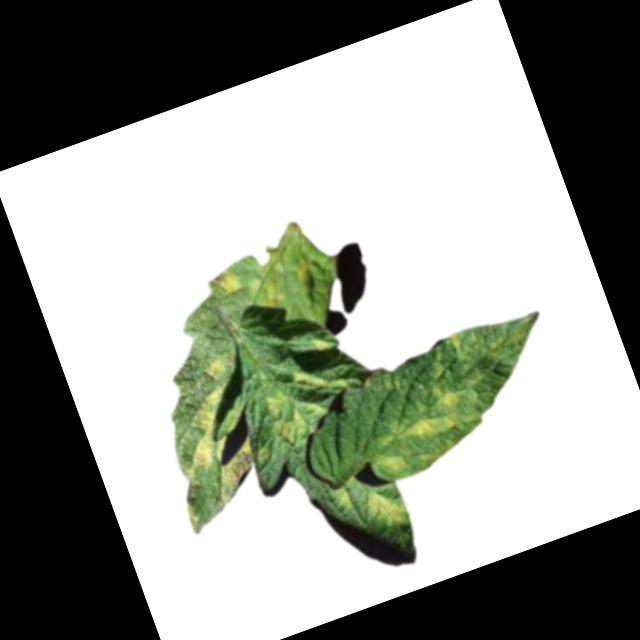Leaf_Mold: (252, 355, 366, 450), (387, 378, 476, 452), (204, 439, 267, 506), (360, 483, 413, 534), (185, 382, 236, 432), (182, 428, 224, 469), (371, 443, 412, 483), (205, 265, 247, 303), (195, 350, 237, 384)
